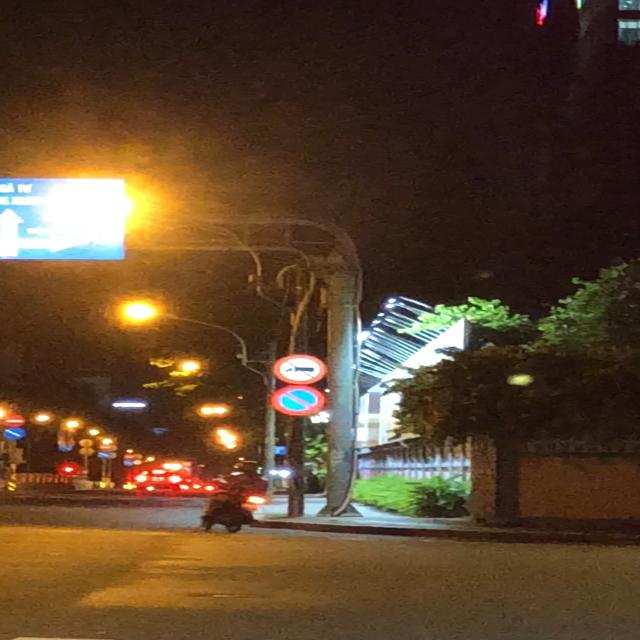Bien bao cam do xe: (269, 384, 332, 419)
Bien bao cam xe so-mi ro-mooc: (270, 352, 336, 385)
